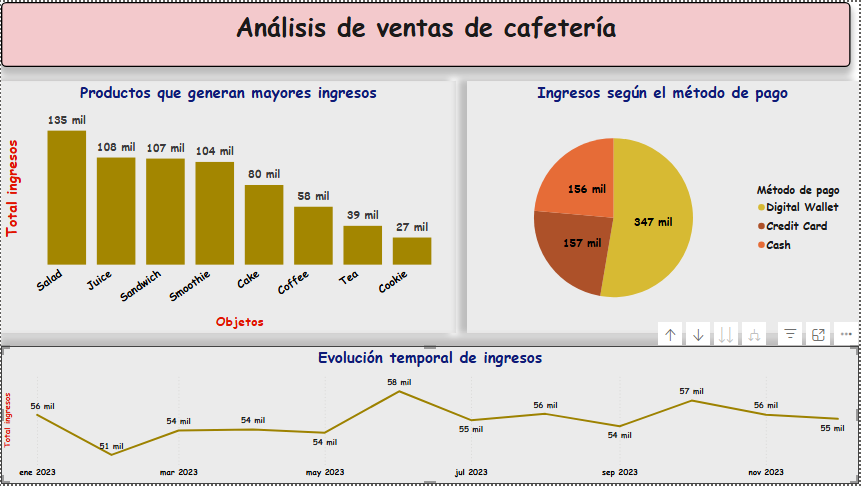

This screenshot's page, from the dashboard's own definition file:
{"tool":"powerbi","page":{"name":"Página 1","canvas":[1280,720],"ordinal":0},"visuals":[{"type":"clusteredColumnChart","title":"Productos que generan mayores ingresos","fields":{"Category":["ventas_cafe_dirty (1).Item"],"Y":["Sum(ventas_cafe_dirty (1).Total Spent)"]},"box":[0,117.6,678.6,376.3],"z":0},{"type":"textbox","box":[0,0,1268.2,97.4],"z":1},{"type":"pieChart","title":"Ingresos según el método de pago","fields":{"Y":["Sum(ventas_cafe_dirty (1).Total Spent)"],"Category":["ventas_cafe_dirty (1).Payment Method"]},"box":[695.4,117.6,584.6,376.3],"z":2},{"type":"lineChart","title":"Evolución temporal de ingresos","fields":{"Y":["Sum(ventas_cafe_dirty (1).Total Spent)"],"Category":["ventas_cafe_dirty (1).Transaction Date.Variación.Jerarquía de fechas.Año","ventas_cafe_dirty (1).Transaction Date.Variación.Jerarquía de fechas.Mes"]},"box":[0,512.3,1280,208.3],"z":3}]}

Visuals, with their boxes in screenshot pixels (x1, y1, x2, y2):
"Productos que generan mayores ingresos" clusteredColumnChart: l=4, t=80, r=456, b=331
textbox: l=4, t=2, r=848, b=67
"Ingresos según el método de pago" pieChart: l=467, t=80, r=856, b=331
"Evolución temporal de ingresos" lineChart: l=4, t=343, r=856, b=481
